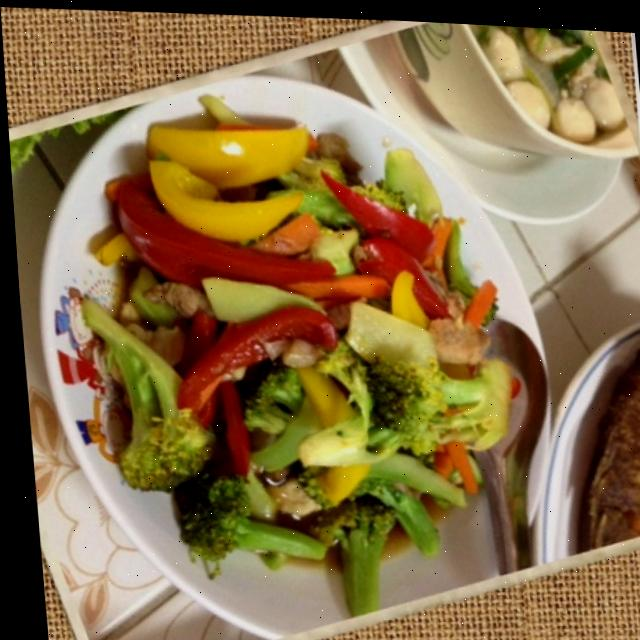蔬菜料理: (51, 98, 553, 574)
